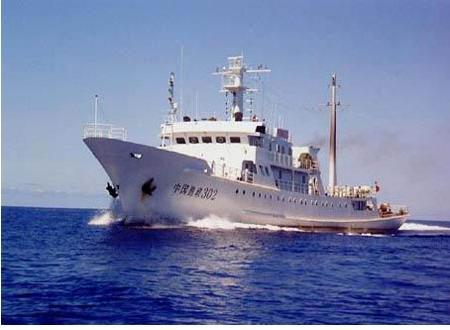warship: (77, 49, 411, 230)
